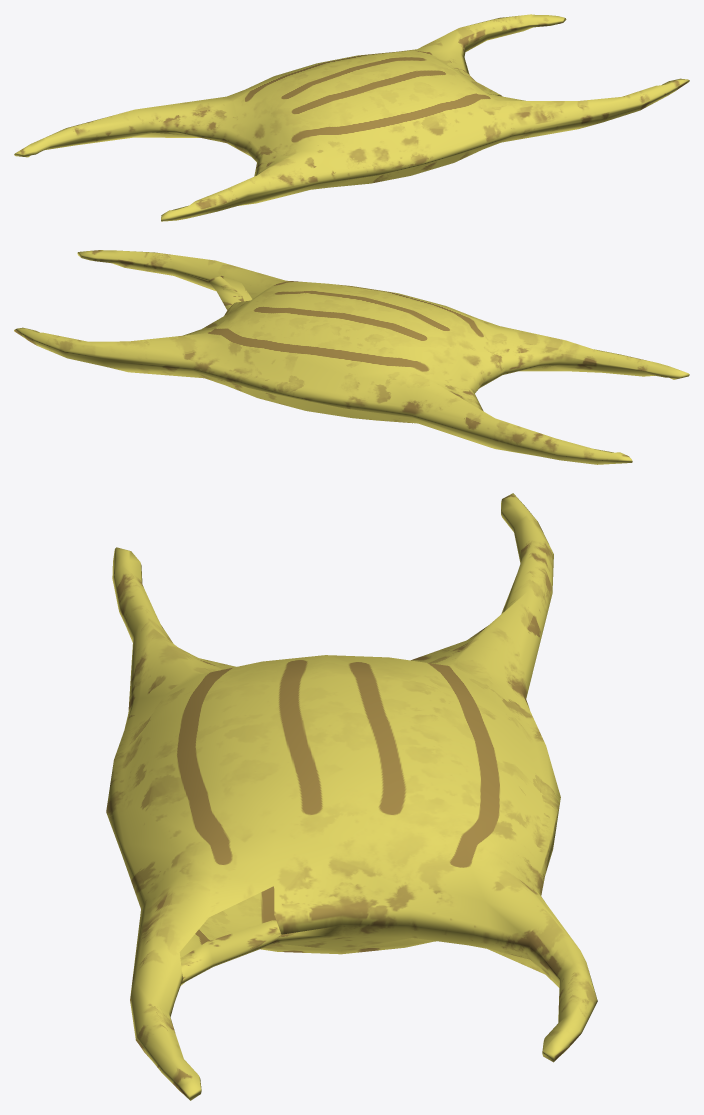
File: skateNursery00.fbx
3 views of the same model, one above another, from view 1: azimuth 30°, elevation 25°; view 2: azimuth 150°, elevation 25°; view 3: azimuth 270°, elevation 25° (orthographic). The views are drawn at different scales.
Parts seen in each view (by area): view 1: skateNursery_final; view 2: skateNursery_final; view 3: skateNursery_final.
Part boxes in pixels (x1,y1,x2,y2): skateNursery_final: (14, 14, 689, 221); skateNursery_final: (14, 250, 689, 464); skateNursery_final: (106, 493, 597, 1100).
Bounding box in the file's own units: 20.52 × 2.93 × 7.35.
Materials: 1 (1 with a texture image).
